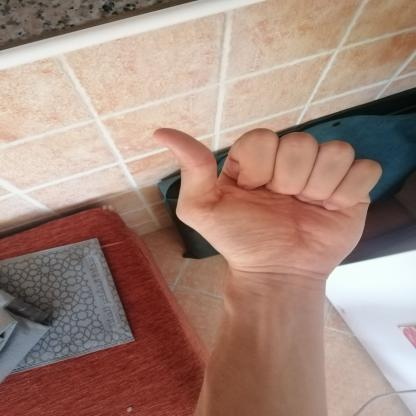DAD: (136, 115, 397, 290)
